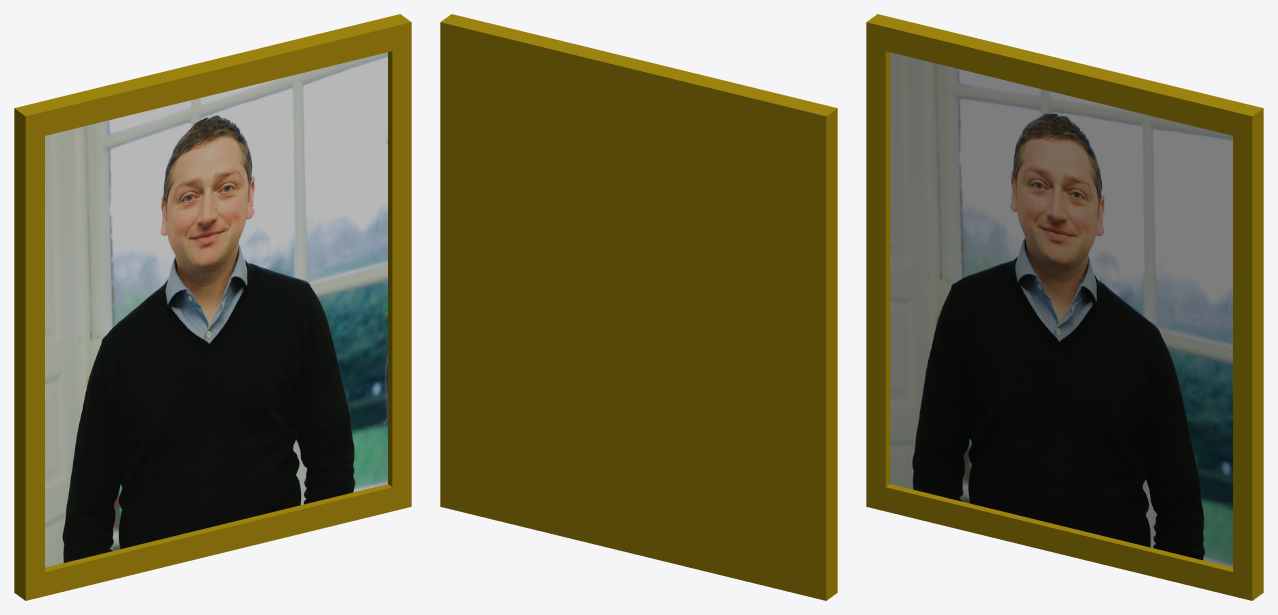
File: Rectangular Wall Painting.fbx
3 views of the same model, side by side, from view 1: azimuth 30°, elevation 25°; view 2: azimuth 150°, elevation 25°; view 3: azimuth 330°, elevation 25° (orthographic).
Parts seen in each view (by area): view 1: Painting; view 2: Painting; view 3: Painting.
Part boxes in pixels (<box>): Painting: <box>14,14,411,600</box>; Painting: <box>440,14,837,600</box>; Painting: <box>866,14,1263,600</box>.
Size of the model in its own units: 148 by 178 by 7.5.
